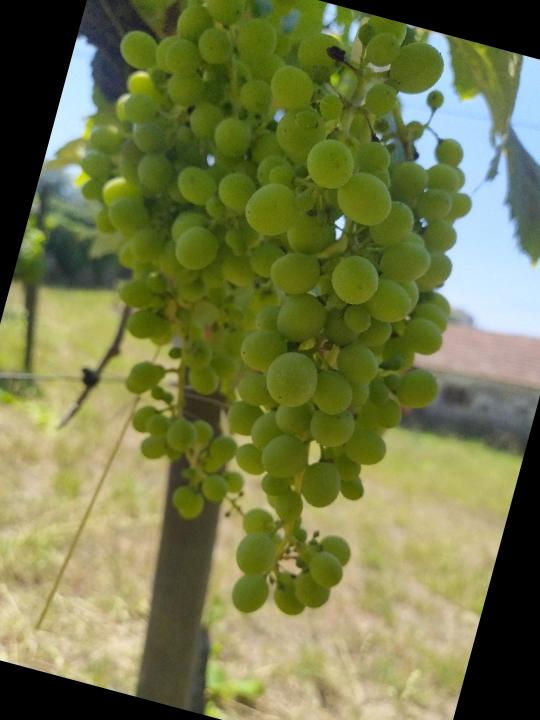grape: (0, 0, 530, 649)
